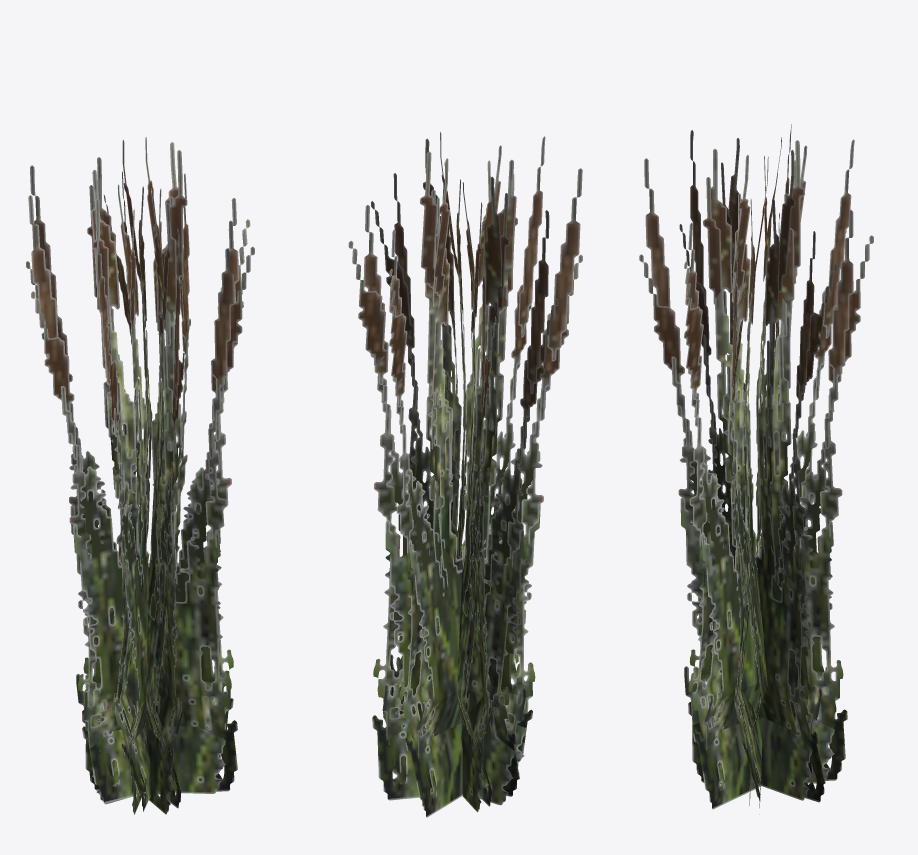
Rendered from Planter_005.fbx.
3 views of the same model, side by side, from view 1: azimuth 30°, elevation 25°; view 2: azimuth 150°, elevation 25°; view 3: azimuth 270°, elevation 25° (orthographic).
Parts seen in each view (by area): view 1: Planters_005; view 2: Planters_005; view 3: Planters_005.
Part boxes in pixels (left/top/right/bottom): Planters_005: left=26, top=137, right=254, bottom=814; Planters_005: left=348, top=132, right=582, bottom=817; Planters_005: left=639, top=124, right=873, bottom=814.
Size of the model in its own units: 52.44 by 156 by 52.08.
